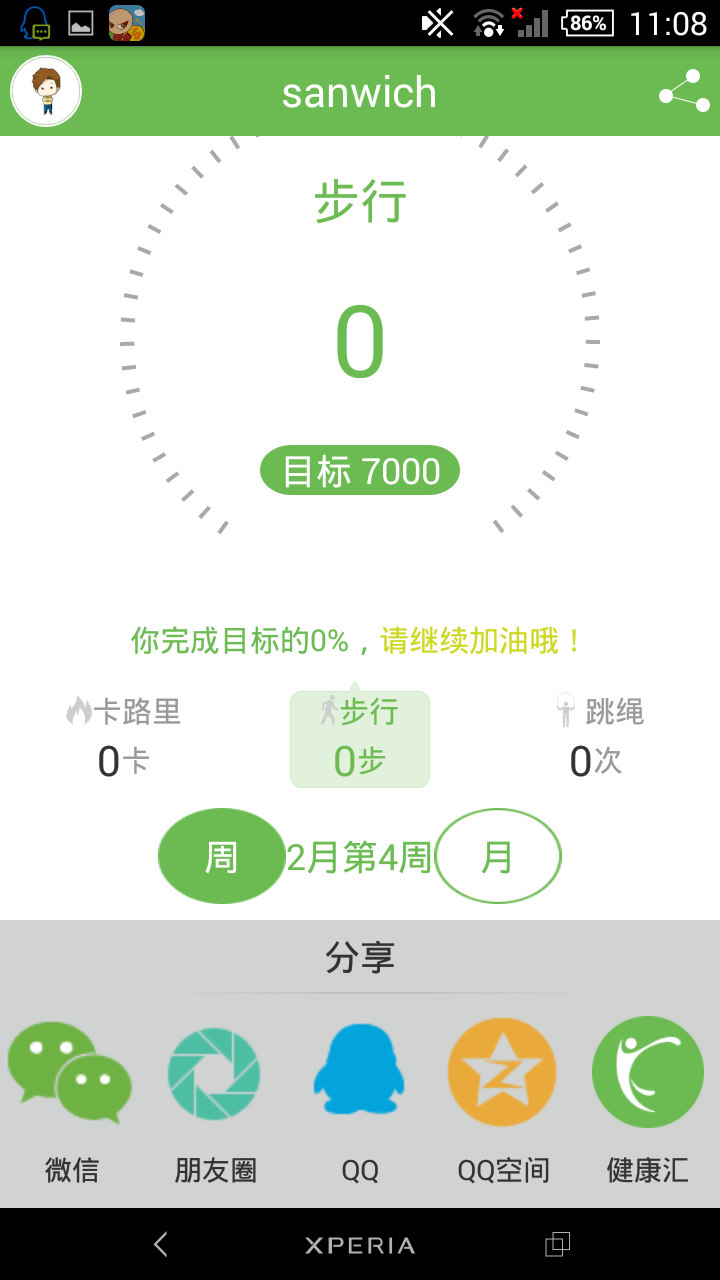imgbutton: (645, 54, 720, 128)
